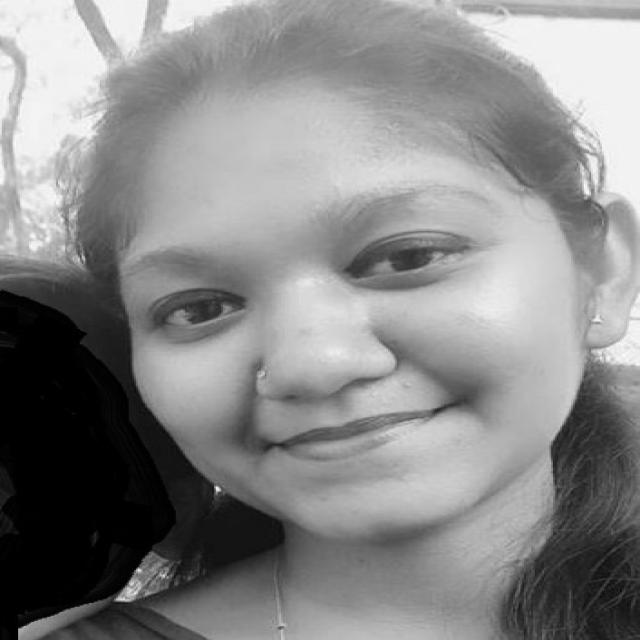without_mask: (100, 37, 525, 505)
